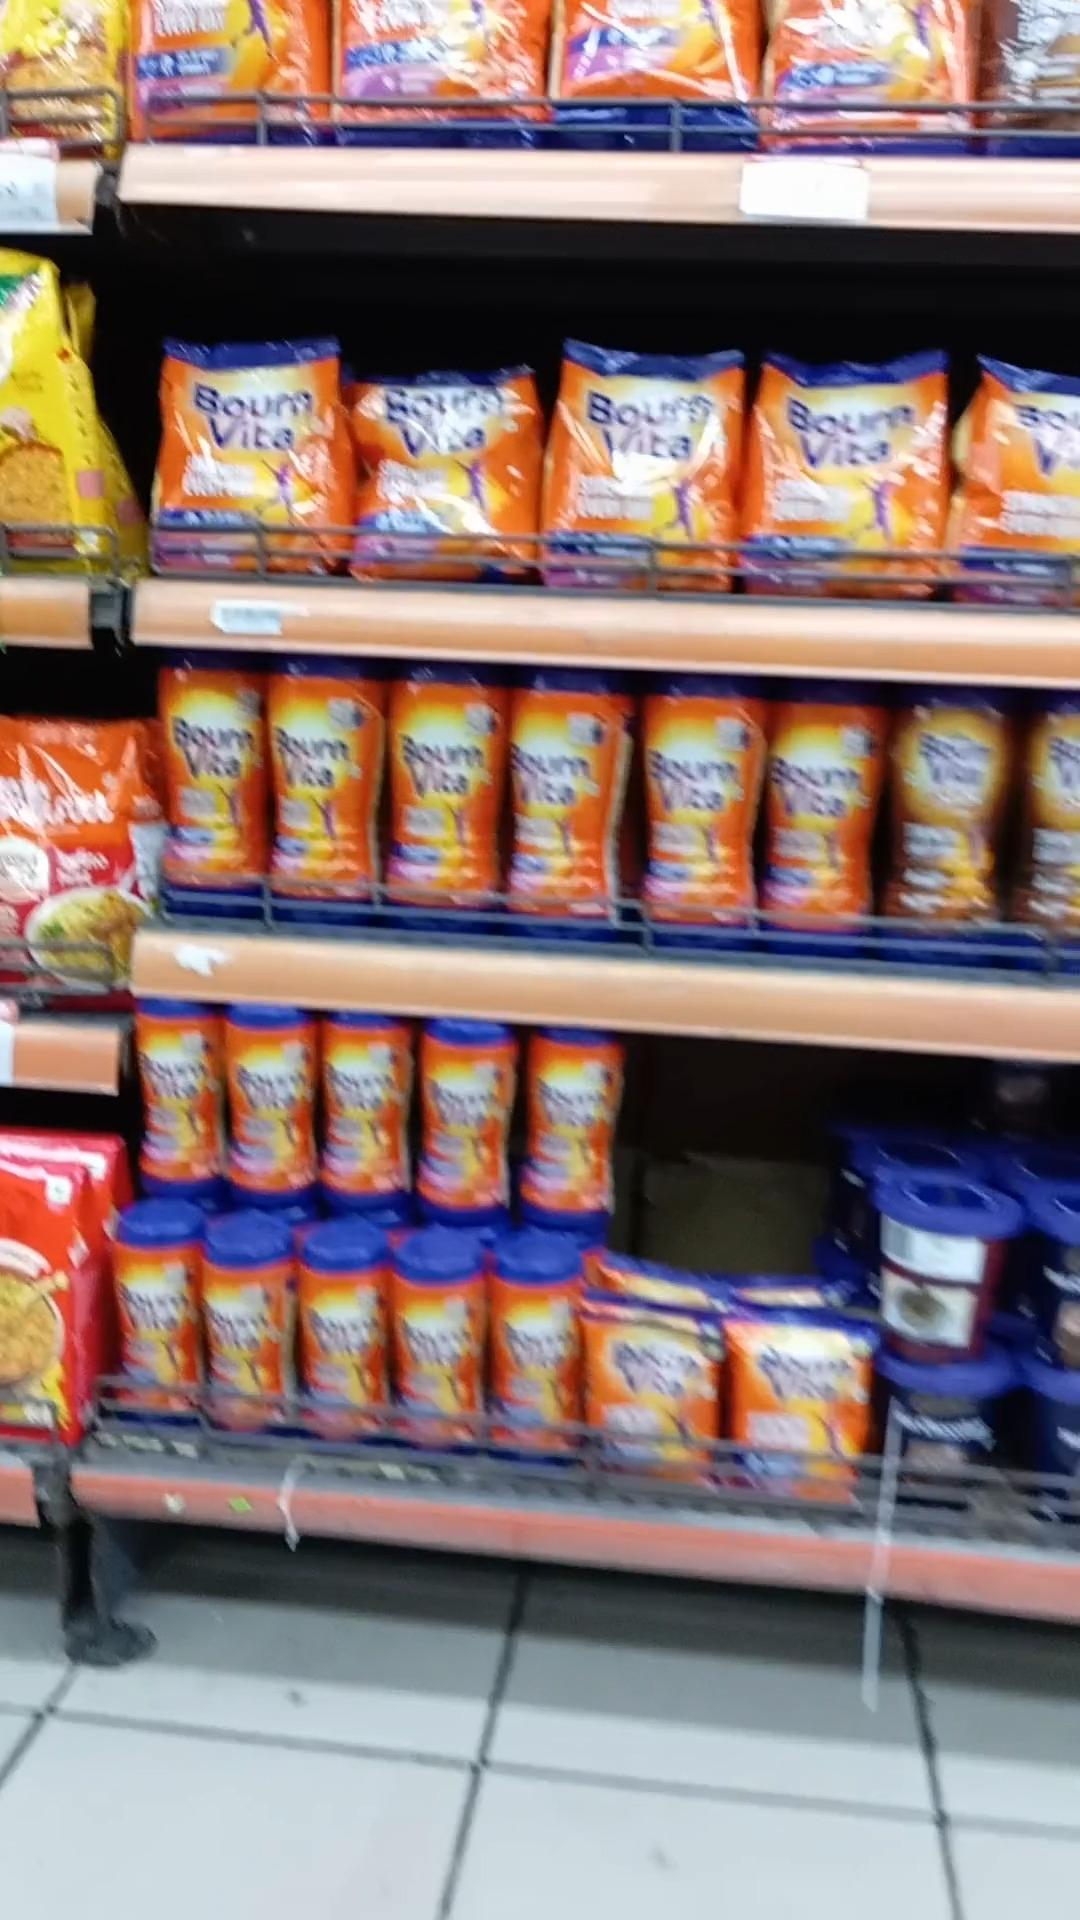BOURN_VITA_200_G_JAR: (516, 1022, 618, 1226), (195, 1224, 285, 1443), (415, 1018, 508, 1226), (318, 1007, 406, 1212), (105, 1216, 190, 1429), (220, 1005, 310, 1204), (489, 1255, 574, 1465), (136, 997, 219, 1205), (398, 1257, 483, 1461), (297, 1241, 380, 1448)
BOURN_VITA_500_G_JAR: (637, 674, 753, 959), (765, 678, 878, 959), (384, 659, 497, 930), (505, 666, 609, 945), (154, 646, 269, 898), (272, 651, 373, 924)
BOURN_VITA_500_G_POUCH: (756, 353, 939, 603), (158, 342, 343, 583), (554, 343, 729, 592), (355, 375, 526, 589), (960, 352, 1080, 607)
BOURN_VITA_75_G_POUCH: (736, 1315, 866, 1526), (587, 1317, 712, 1482)
BOURN_VITA_FIVE_STAR_MAGIC_500_G_JAR: (890, 694, 997, 960)
